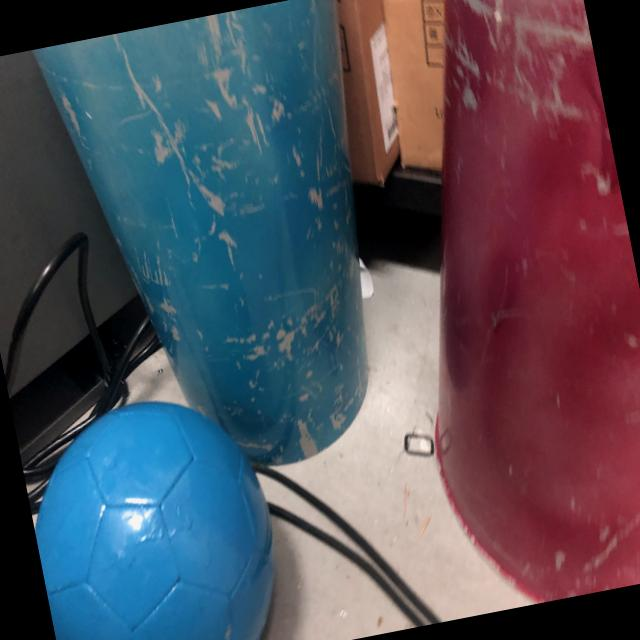blue_ball: (14, 380, 296, 640)
